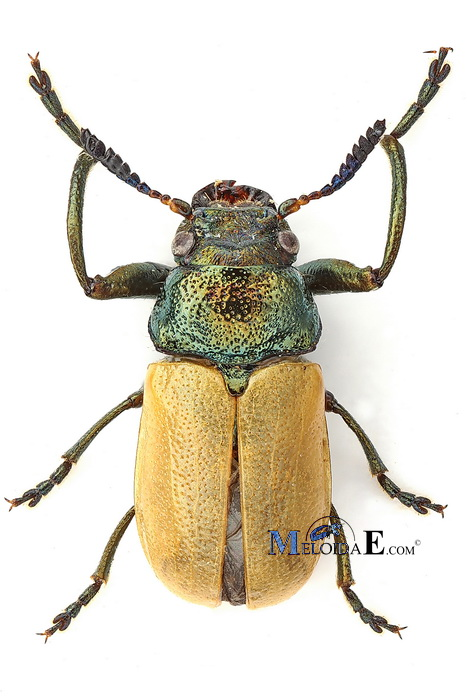Labidostomis_longimana: (19, 41, 451, 648)
